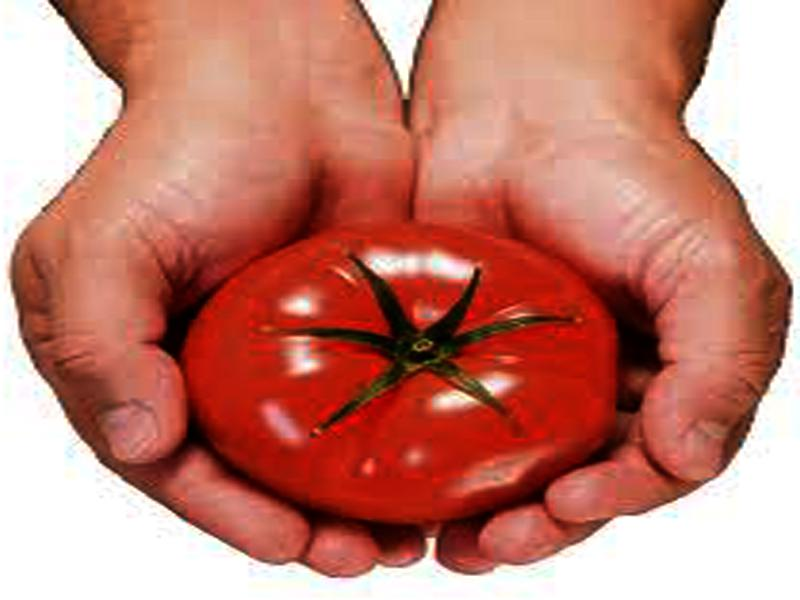Tomato: (179, 227, 623, 520)
